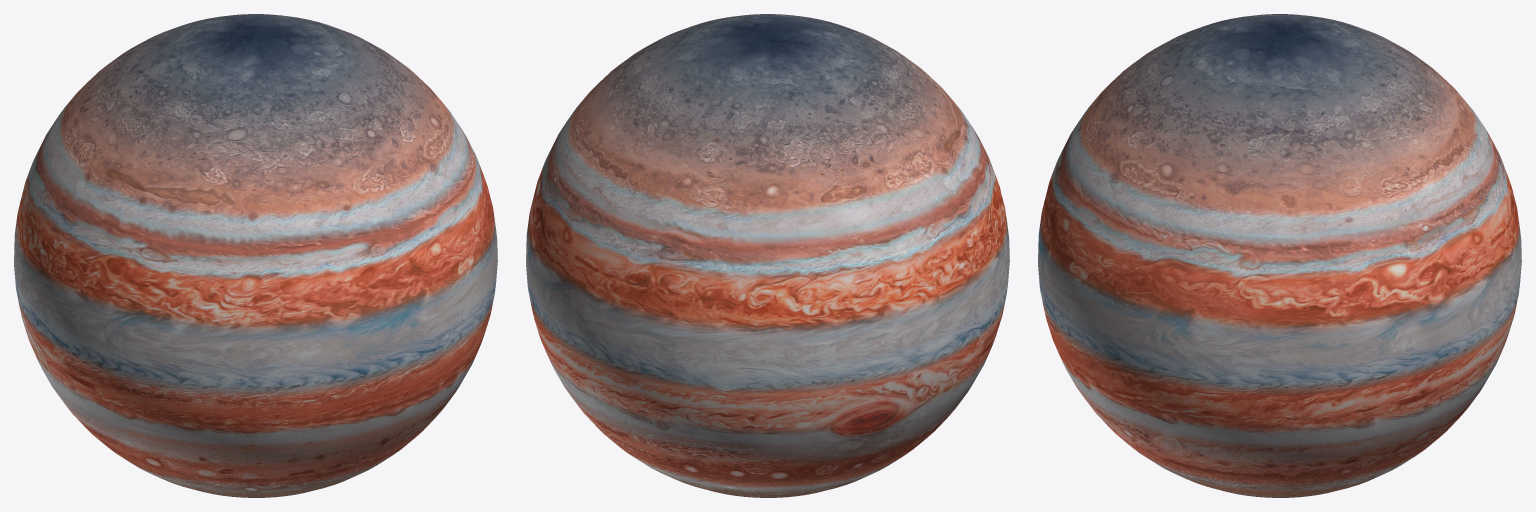
The model's file is jupiter.glb.
3 views of the same model, side by side, from view 1: azimuth 30°, elevation 25°; view 2: azimuth 150°, elevation 25°; view 3: azimuth 270°, elevation 25° (orthographic).
Parts seen in each view (by area): view 1: Jupiter; view 2: Jupiter; view 3: Jupiter.
Part boxes in pixels (x1,y1,x2,y2): Jupiter: (14,14,497,497); Jupiter: (526,14,1009,497); Jupiter: (1038,14,1521,497).
Size of what is drawn, in the model's own units: 19.99 by 20 by 19.98.
Materials: 1 (1 with a texture image).
